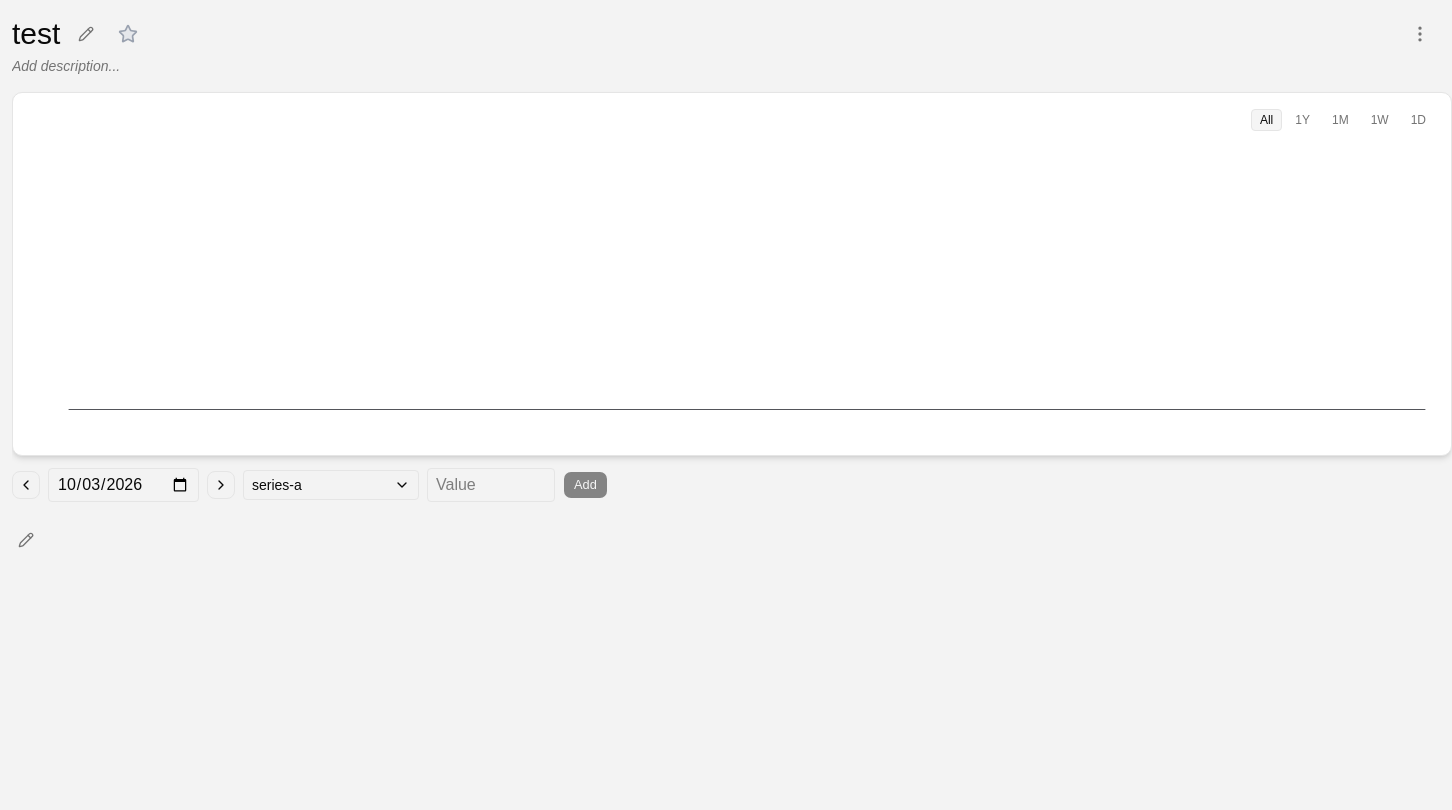
Test: TrackerDetailView › shows series rows in the series settings panel
This screenshot has width=1452, height=810.
Click the button named "tracker menu": (1420, 34) [1404, 18, 1436, 50]
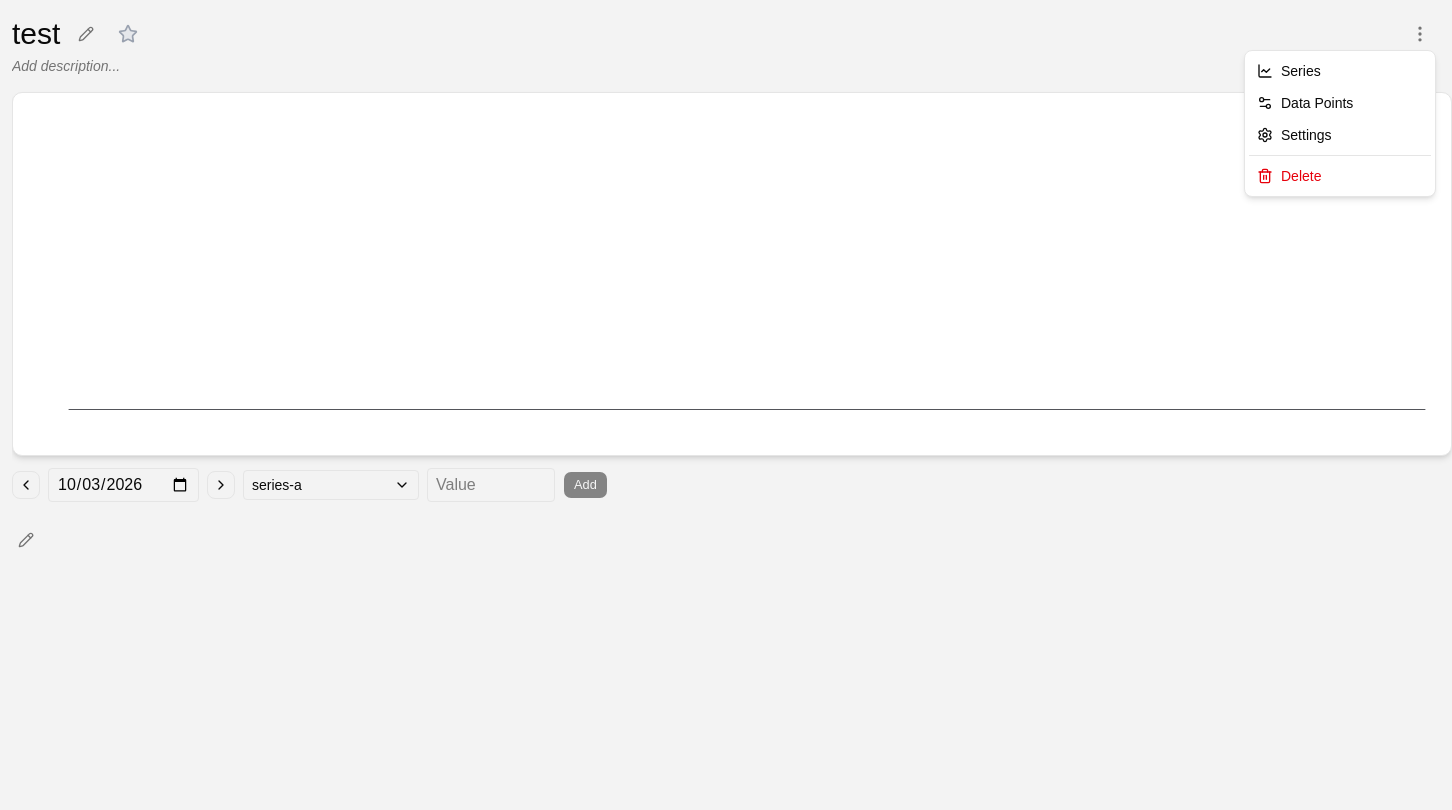
Click the menu item "Series": (1289, 71) [1257, 63, 1321, 79]
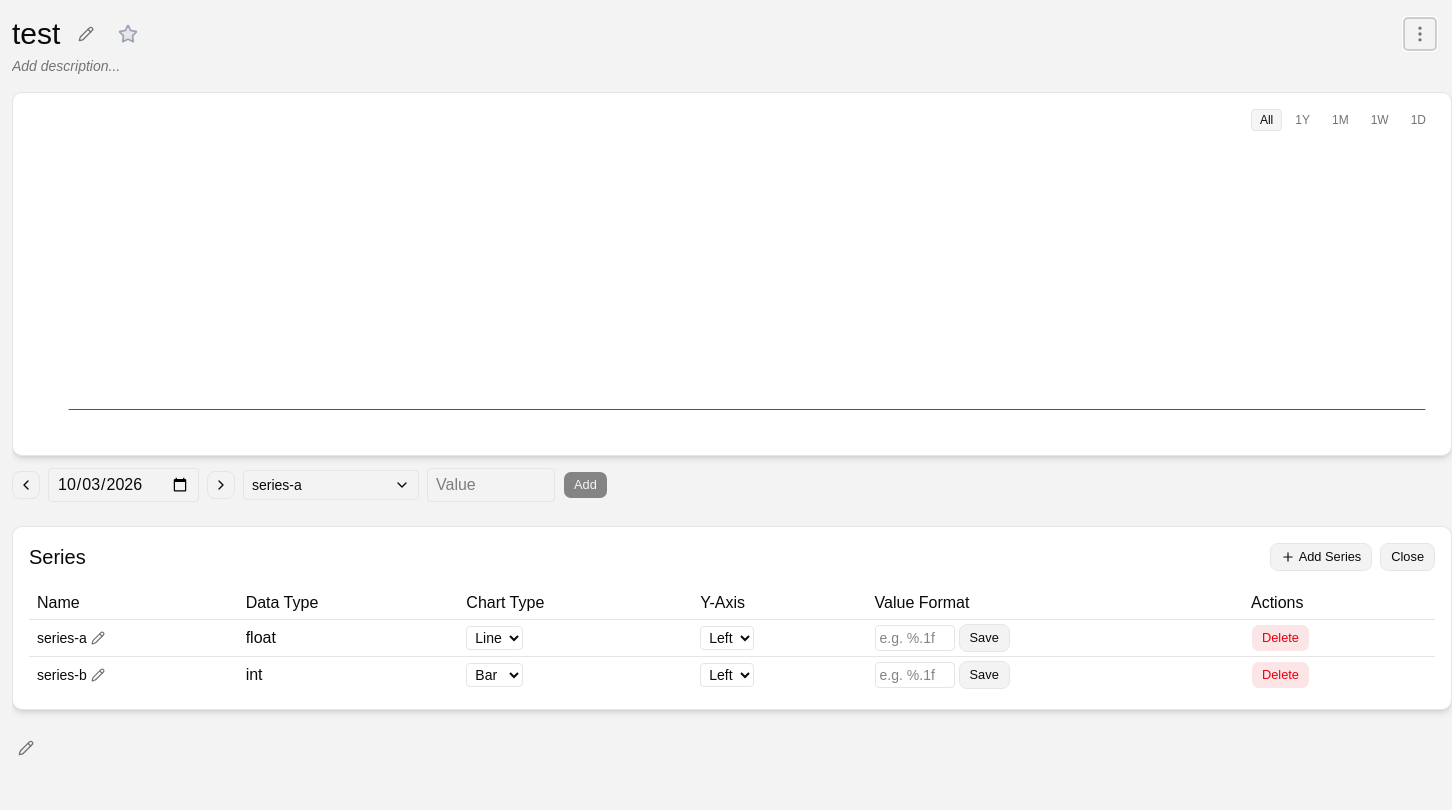
Expected: the text "series-a" next to "float" is shown, [37, 630, 87, 646]
Expected: the text "series-b" is shown, [37, 664, 87, 684]
Expected: the number of buttons "Delete" is 2, [1251, 624, 1310, 652]; [1251, 660, 1310, 688]
